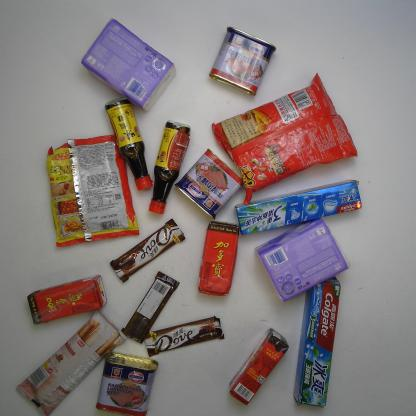Canned Food: (171, 143, 248, 222), (207, 25, 278, 97), (94, 349, 161, 416)
Chocolate: (107, 216, 188, 284), (119, 269, 182, 347), (141, 314, 227, 359)
Dessert: (13, 305, 127, 416)
Drink: (226, 328, 290, 408), (25, 273, 110, 327), (195, 218, 244, 298)
Instant Noodles: (42, 133, 143, 249)
Personal Hygiene: (232, 176, 365, 238), (290, 270, 343, 410)
Puffed Food: (210, 68, 360, 208)
Seasoner: (103, 94, 155, 193), (147, 118, 192, 217)
Tissue: (79, 16, 178, 114), (253, 215, 352, 305)
